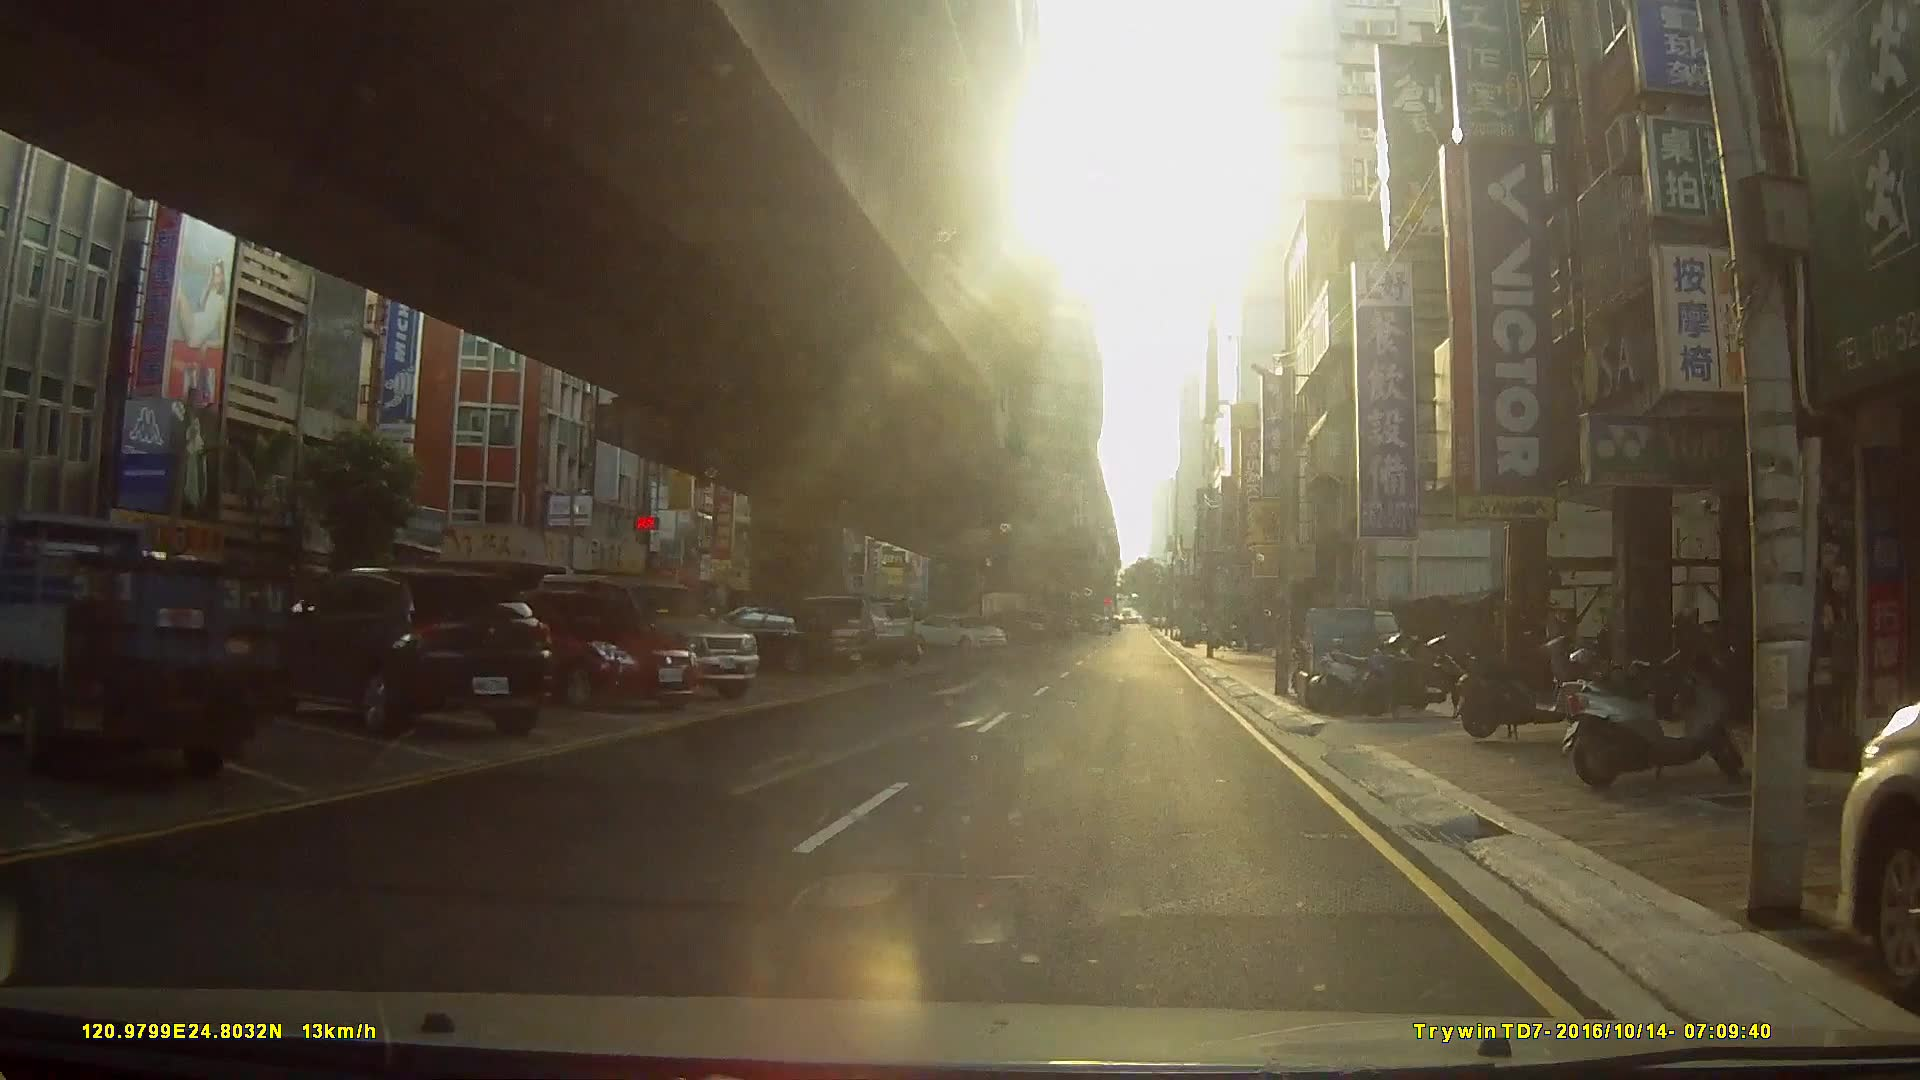vehicle: (0, 512, 295, 782), (270, 568, 549, 738), (531, 570, 760, 702), (491, 585, 702, 713), (692, 604, 865, 675), (773, 593, 918, 669), (913, 615, 1009, 654)
